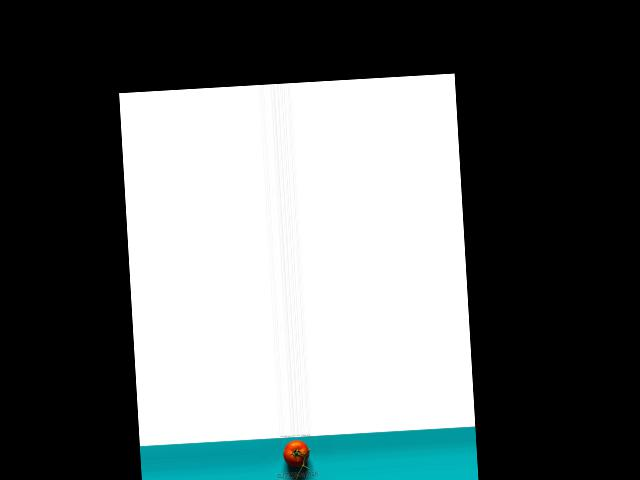tomato: (283, 440, 310, 467)
